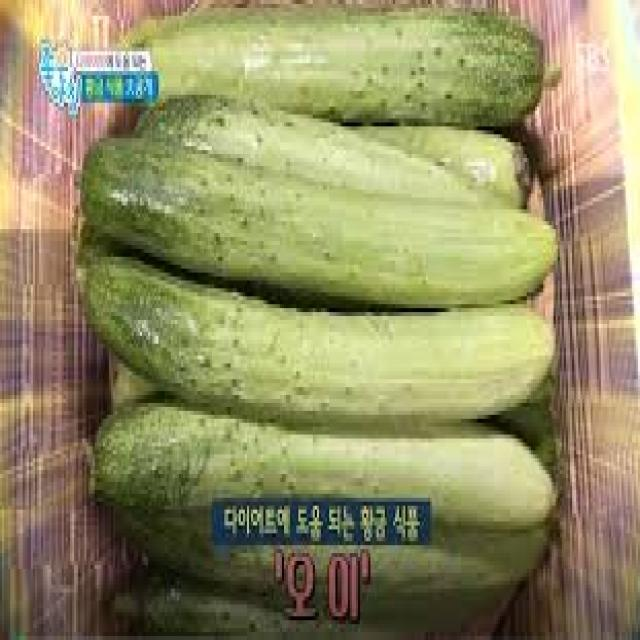Cucumber: (82, 138, 558, 308), (82, 257, 556, 425)
